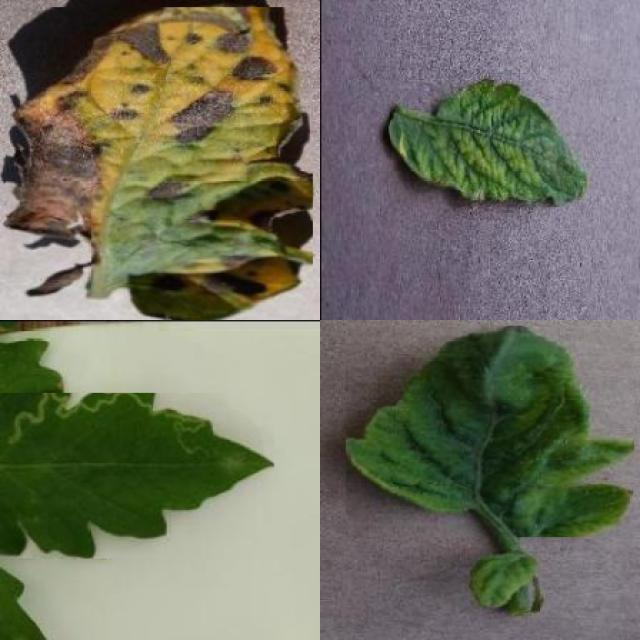Early Blight: (6, 7, 313, 320)
Leaf Miner: (0, 393, 274, 559)
Mosaic Virus: (387, 80, 587, 207)
Yellow Leaf Curl Virus: (346, 326, 634, 538), (467, 549, 540, 611)
